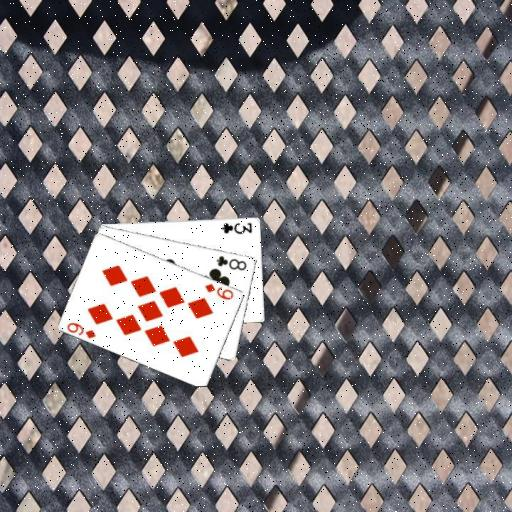3C: (219, 219, 254, 235)
8C: (214, 253, 249, 272)
9D: (202, 281, 236, 301), (64, 320, 98, 340)
